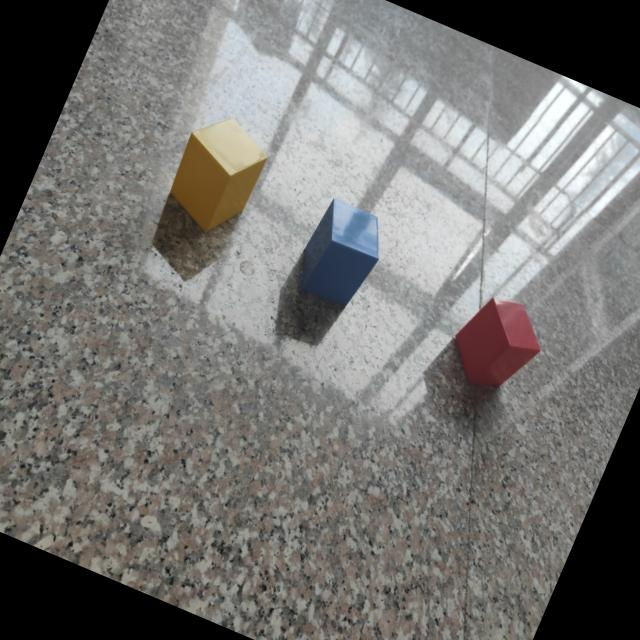blue: (300, 198, 380, 306)
pink: (452, 299, 541, 390)
yellow: (170, 121, 267, 233)
